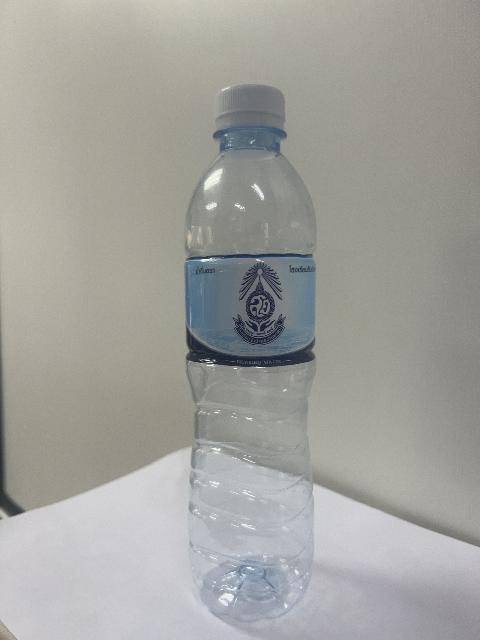bottle: (186, 85, 316, 621)
